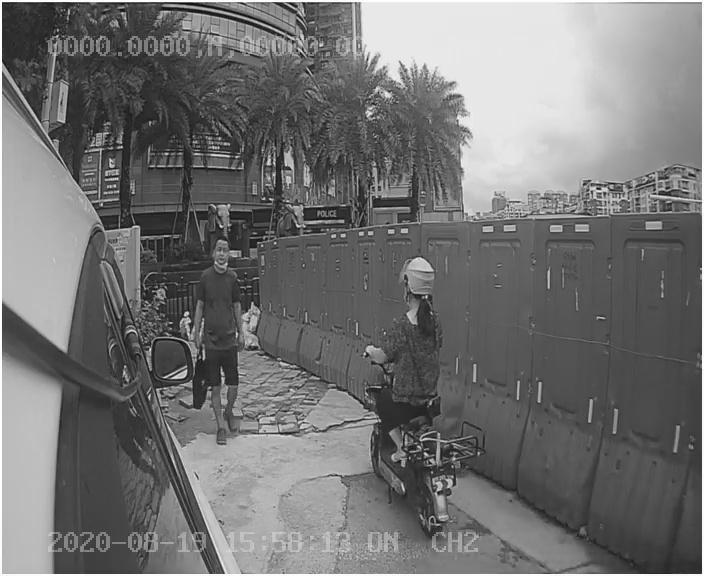person: (183, 234, 271, 446)
